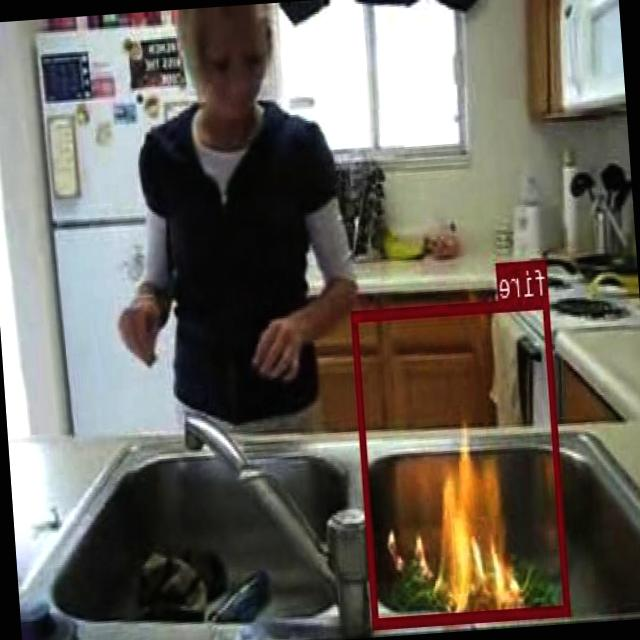fire: (352, 295, 570, 626)
